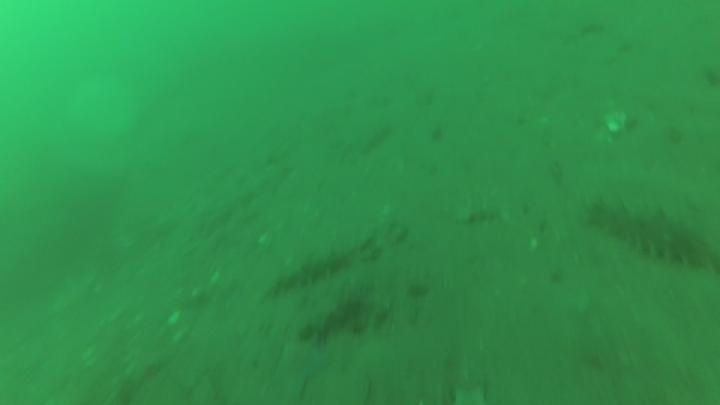holothurian: (583, 194, 719, 273), (267, 245, 354, 297)
